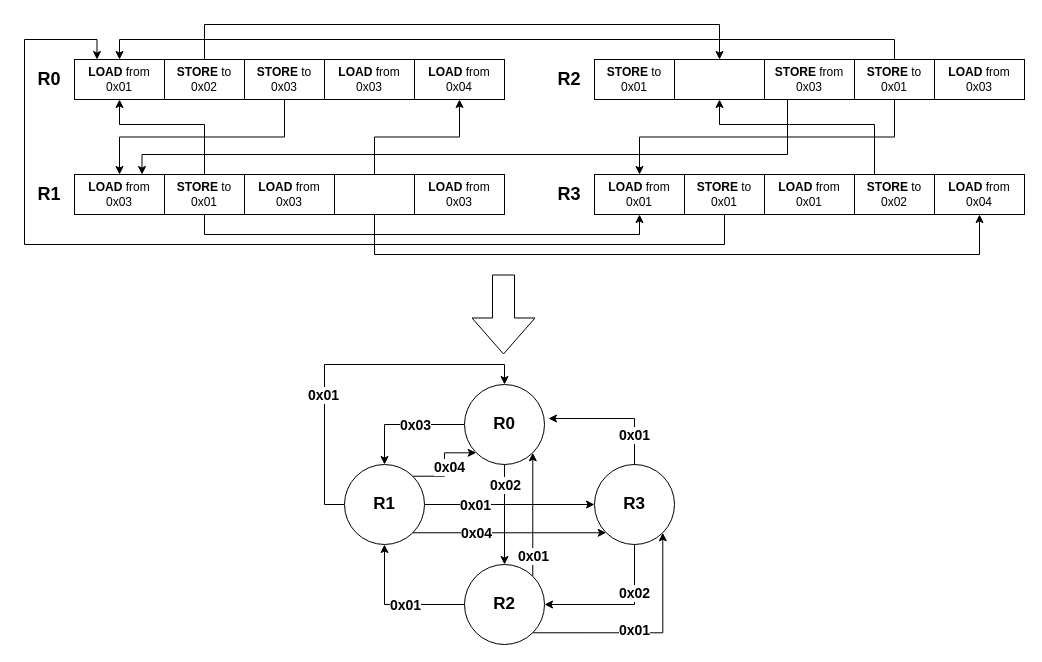
Image size: 1042x662. Some labels were removed from this diagram. The box of each missing label's shape, as (x1, y1, x2, y2) in pixels:
LOAD from 0x02: (674, 58, 764, 100)
STORE to 0x04: (334, 174, 414, 214)
